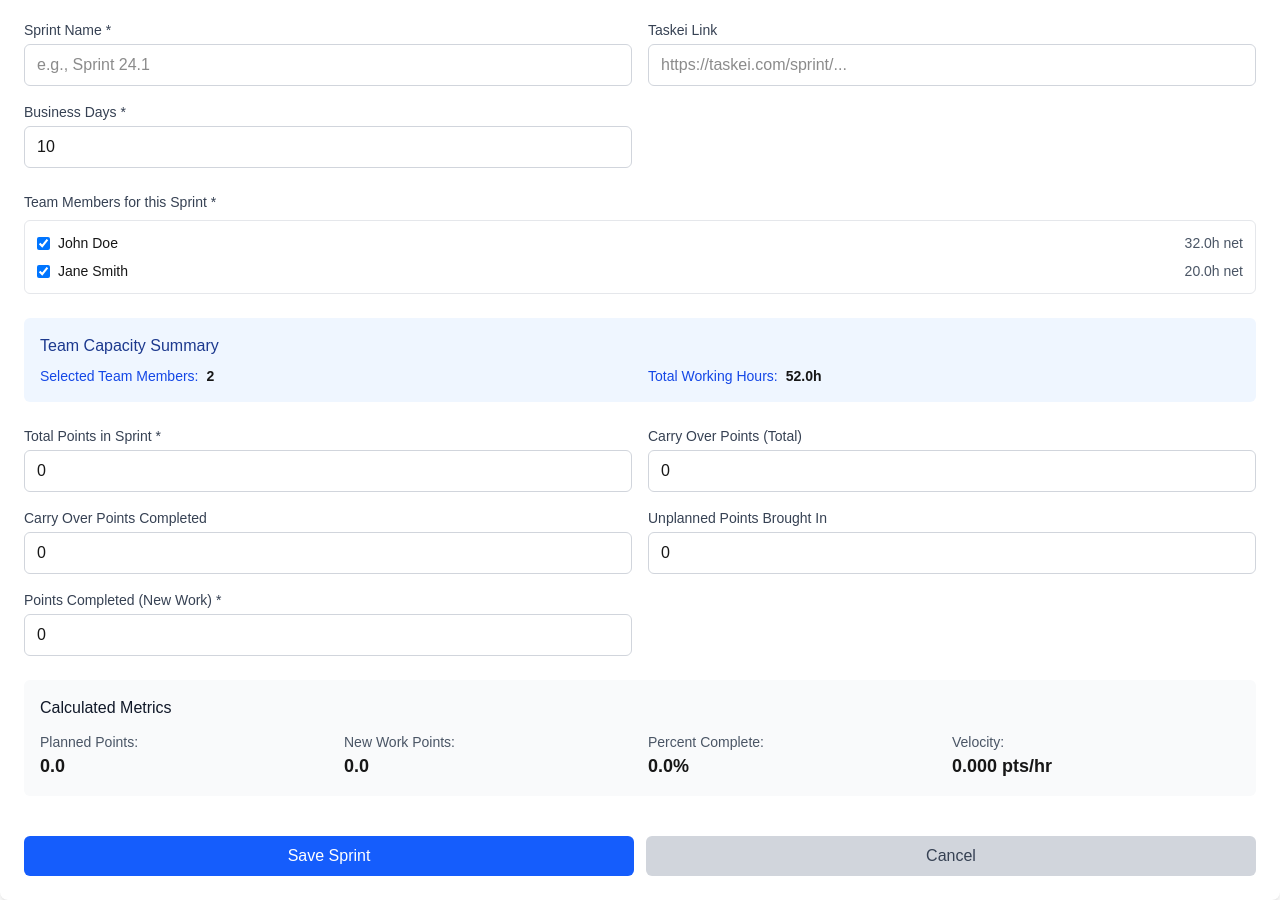
Scenario: SprintForm › should validate required fields
(page scrolled)
Click the button "Save Sprint" at (329, 856), box [24,836,634,876]
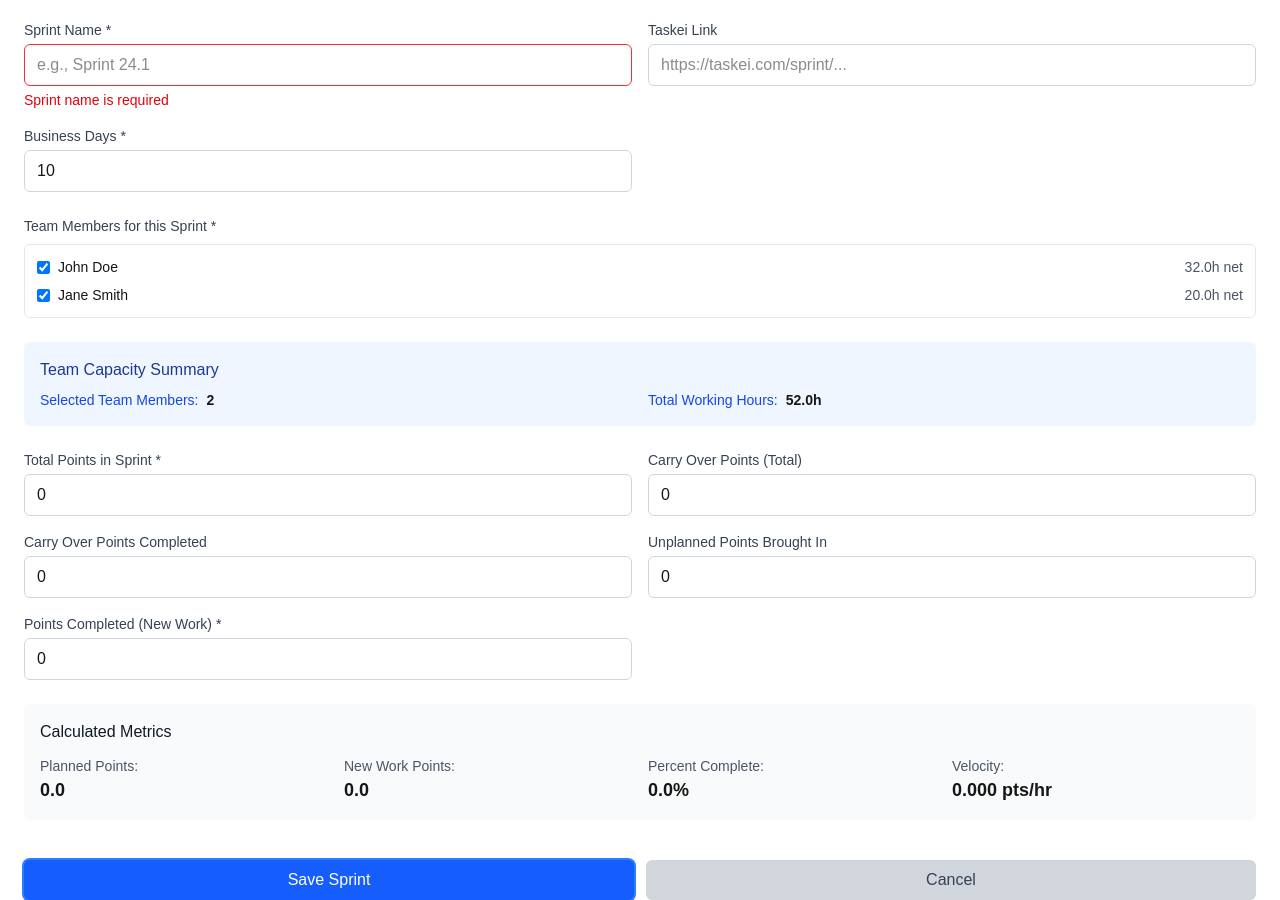
Expected: the text "Sprint name is required" is shown, [24,92,169,108]
